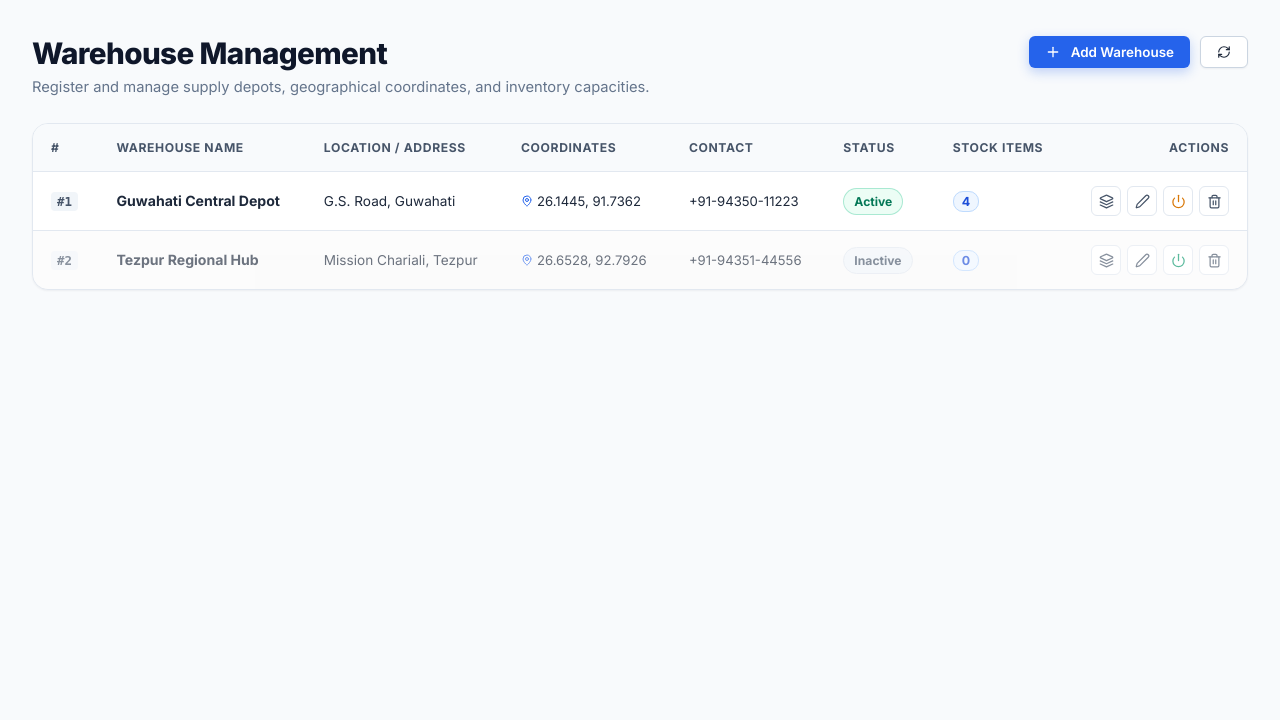
Warehouses and Villages Management › WarehousesPage Component › opens Add Warehouse modal when Add Warehouse button is clicked
Expected: the text "Guwahati Central Depot" is shown, [116,192,280,209]
Click the button "Add Warehouse" at (1109, 52), box [1029,36,1190,68]
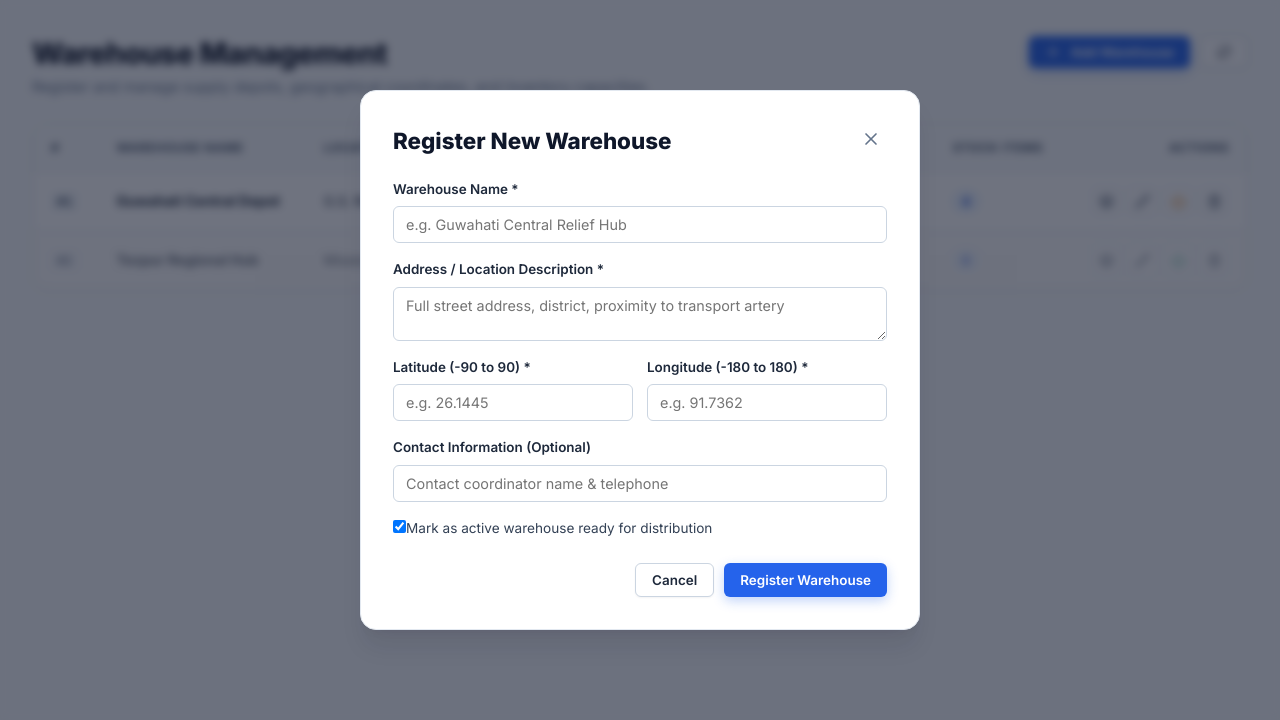
Expected: the heading "Register New Warehouse" is shown, [393,123,672,158]
Expected: the field with placeholder "e.g. Guwahati Central Relief Hub" is shown, [393,206,887,243]
